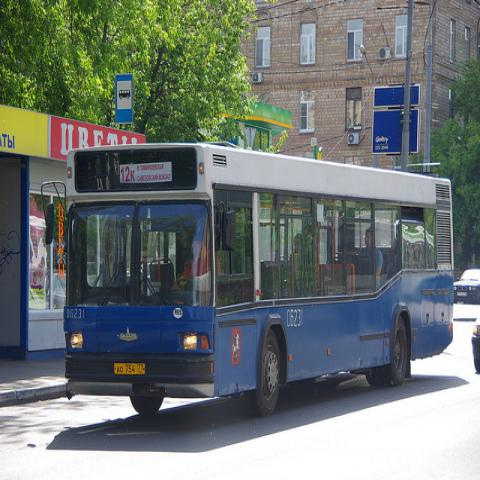bus: (61, 145, 457, 413)
car: (453, 268, 479, 306), (471, 307, 479, 374)
